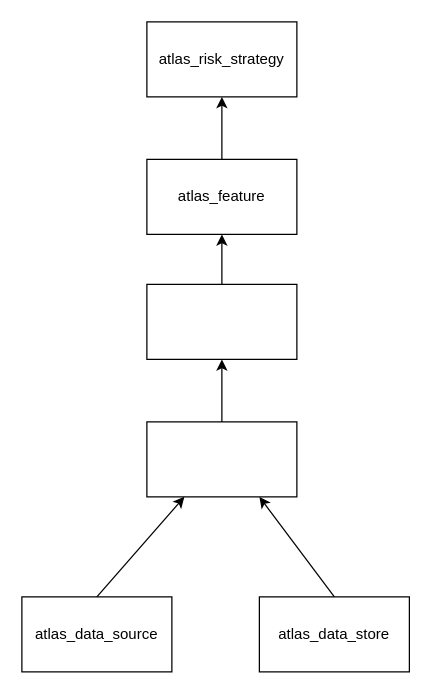
Image size: 431x694. Some labels were removed from this diagram. The shapes that lost their labels are listed below. From the top down, each one's centre as x and y in pixels, then its label:
pixel 221 321: atlas_datamodel
pixel 221 459: atlas_sink_strategy
